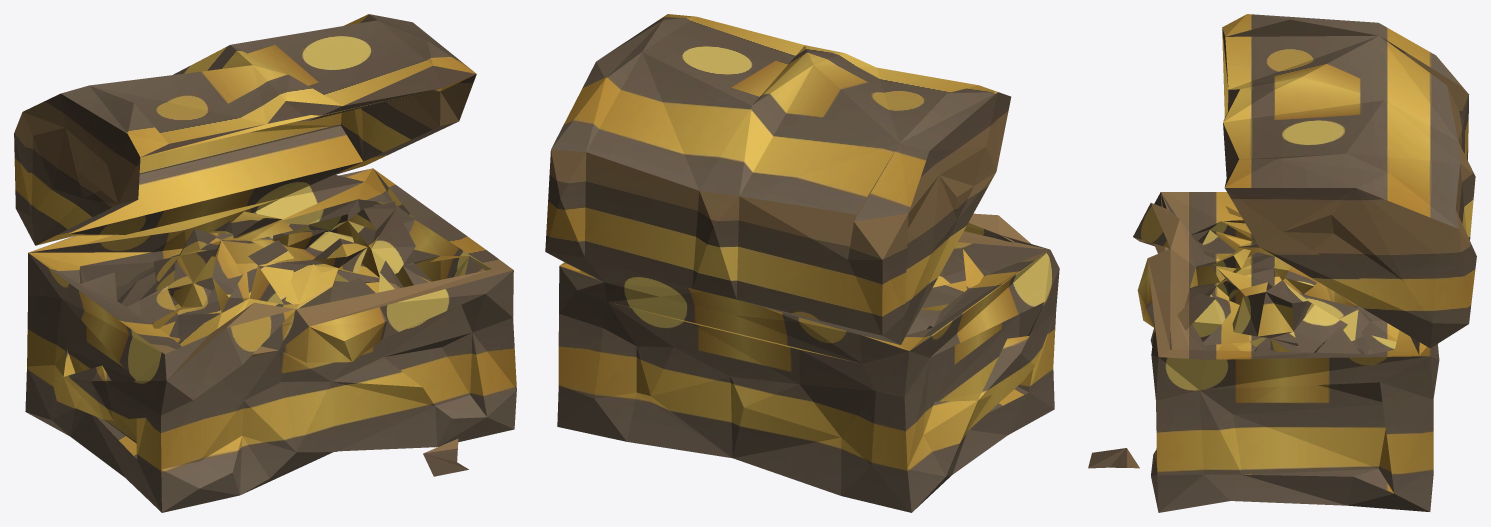
Rendered from treasure_chest_open.glb.
The picture shows the model from 3 angles, left to right: view 1: azimuth 30°, elevation 25°; view 2: azimuth 150°, elevation 25°; view 3: azimuth 270°, elevation 25°; orthographic projection. The views are drawn at different scales.
Visible parts, largest first — view 1: mesh_node; view 2: mesh_node; view 3: mesh_node.
Boxes of the visible parts, x1=… form: mesh_node: x1=14, y1=14, x2=516, y2=512; mesh_node: x1=545, y1=14, x2=1059, y2=512; mesh_node: x1=1088, y1=14, x2=1476, y2=512.
Bounding box in the file's own units: 1.82 × 1.64 × 1.67.
1 material, 1 textured.
